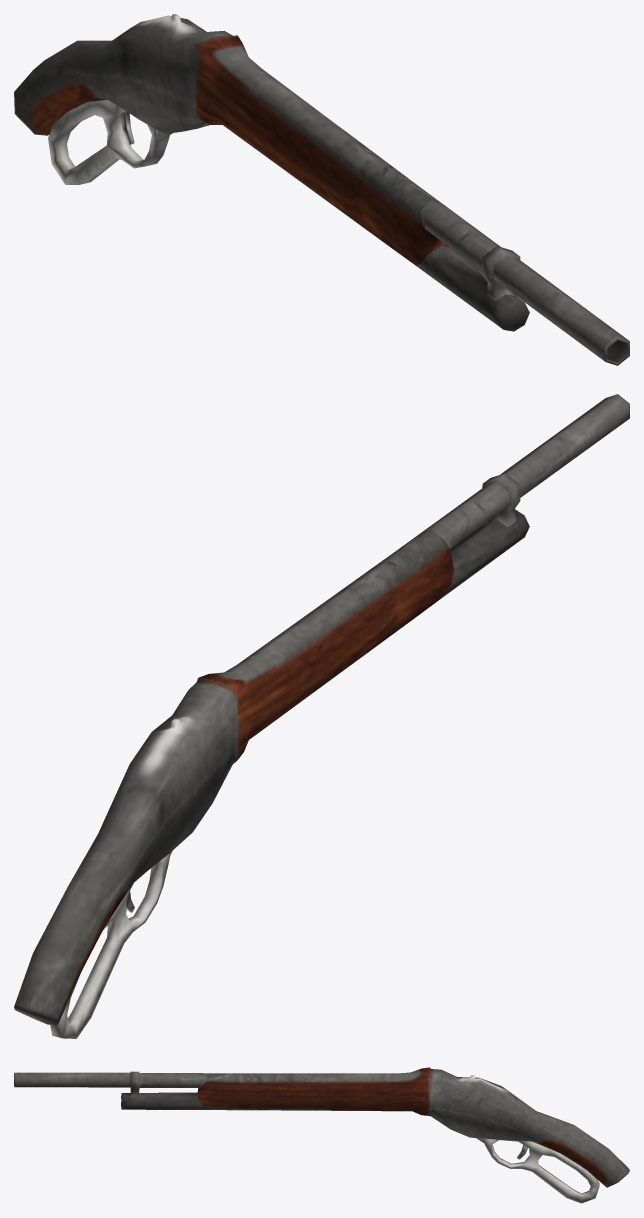
Rendered from Weapon_Mesh.FBX.
3 renders of one model, top to bottom at view 1: azimuth 30°, elevation 25°; view 2: azimuth 150°, elevation 25°; view 3: azimuth 270°, elevation 25°, orthographic. The views are drawn at different scales.
Visible parts, largest first — view 1: Gun_Mesh; view 2: Gun_Mesh; view 3: Gun_Mesh.
Part boxes in pixels (bbox=[...]): Gun_Mesh: bbox=[14, 14, 629, 365]; Gun_Mesh: bbox=[14, 394, 629, 1038]; Gun_Mesh: bbox=[14, 1067, 629, 1203].
Size of the model in its own units: 3.39 by 18.41 by 78.92.
